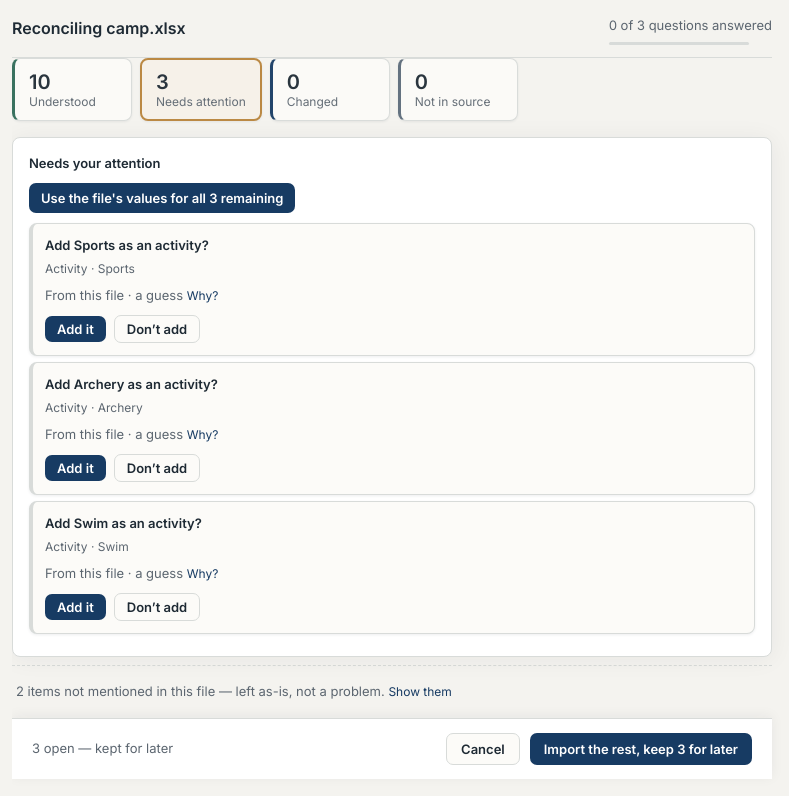
it: the question counter after one card is answered › keeps the unanswered cards in the count
Expected: the text "0 of 3 questions answered" is shown, [609,16,772,36]
Click the button "Add it" below "Activity · Sports".
click(75, 329)  # box [45,316,106,342]
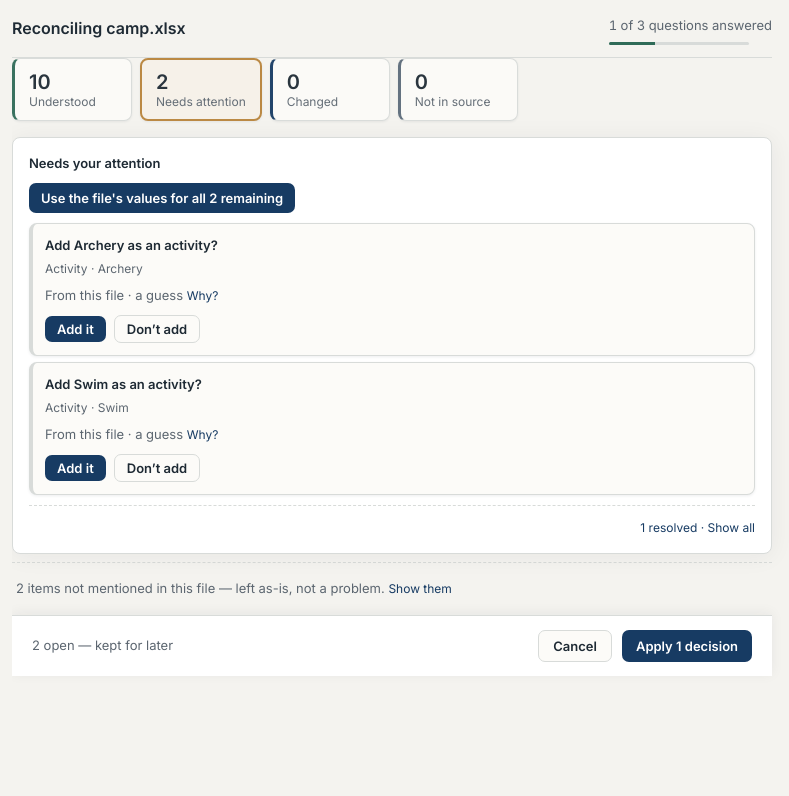
Result: the text "1 of 3 questions answered" is shown at [609,16,772,36]
